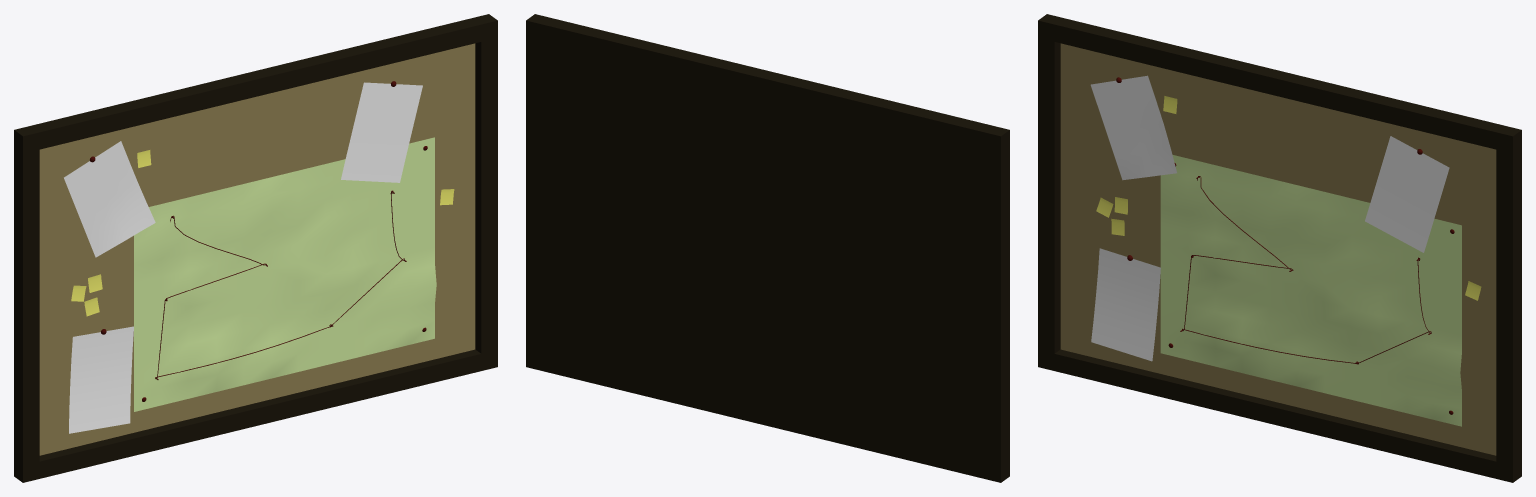
Rendered from CorkBoard_LowPoly_EmmaStpierre.fbx.
The picture shows the model from 3 angles, left to right: view 1: azimuth 30°, elevation 25°; view 2: azimuth 150°, elevation 25°; view 3: azimuth 330°, elevation 25°; orthographic projection.
Parts seen in each view (by area): view 1: corkboard; view 2: corkboard; view 3: corkboard.
Part boxes in pixels (x1=…): corkboard: x1=14, y1=14, x2=497, y2=482; corkboard: x1=526, y1=14, x2=1009, y2=482; corkboard: x1=1038, y1=14, x2=1521, y2=482.
Size of the model in its own units: 240 by 167 by 7.8.
